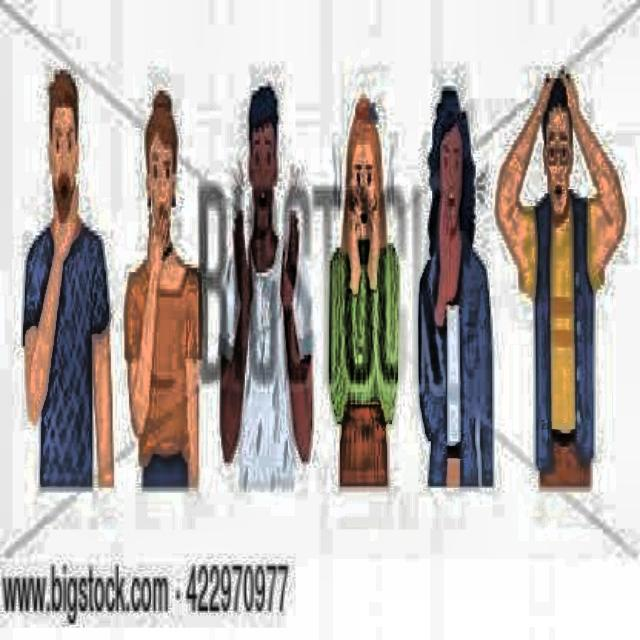fear: (233, 73, 289, 276), (525, 66, 588, 224), (334, 92, 384, 264), (423, 92, 472, 265), (46, 61, 92, 231)
